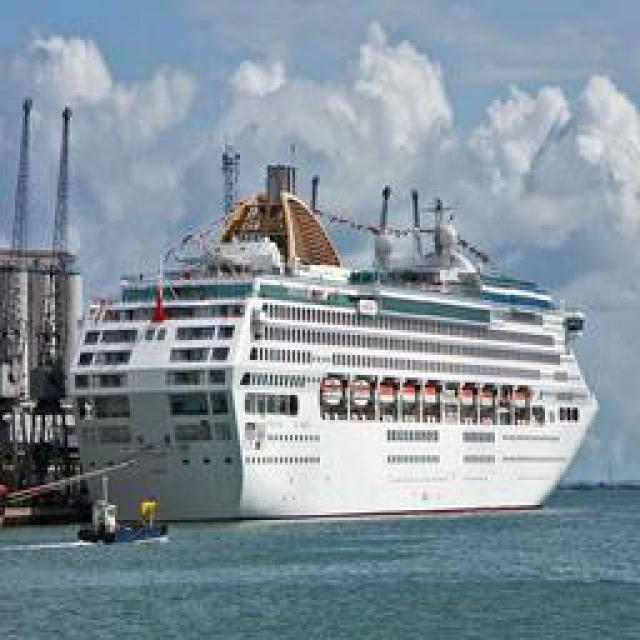ship2: (75, 151, 600, 527)
